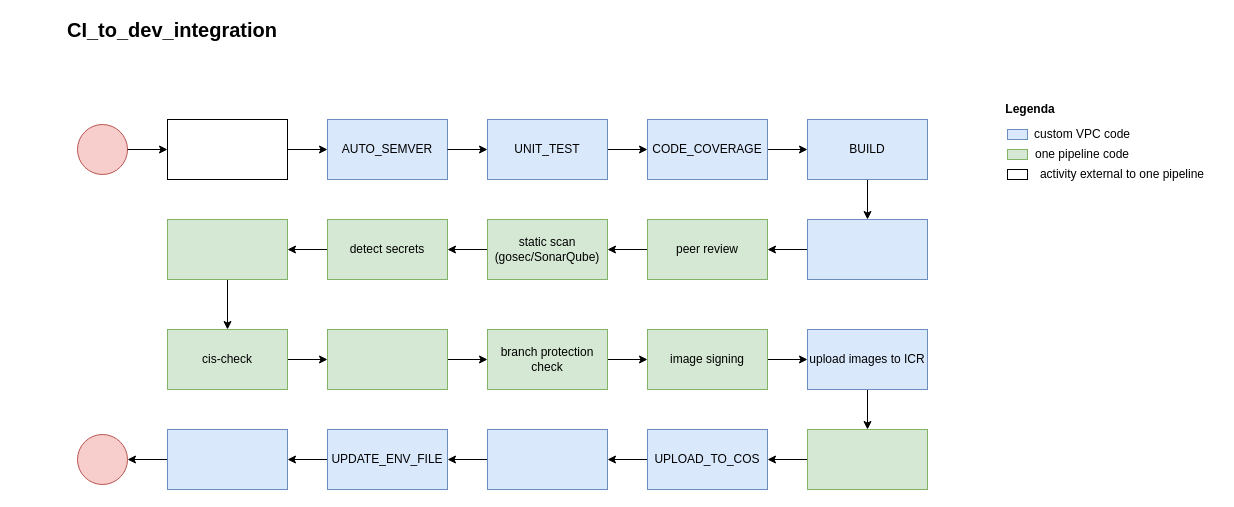
Some shapes in this 1234 by 507 pixel diagram are drawn without their labels. The box of each missing label's shape, as (x1, y1, x2, y2) in pixels:
bom check: (326, 328, 448, 390)
MARINA_REGPROD_ SYNC: (806, 218, 928, 280)
merge code to dev-integration branch: (166, 118, 288, 180)
MOVE_CANDIDATE_ FILES: (166, 428, 288, 490)
UPDATE_LD: (486, 428, 608, 490)
vulnerability advisor scan: (806, 428, 928, 490)
vulnerability scan (CRA): (166, 218, 288, 280)
